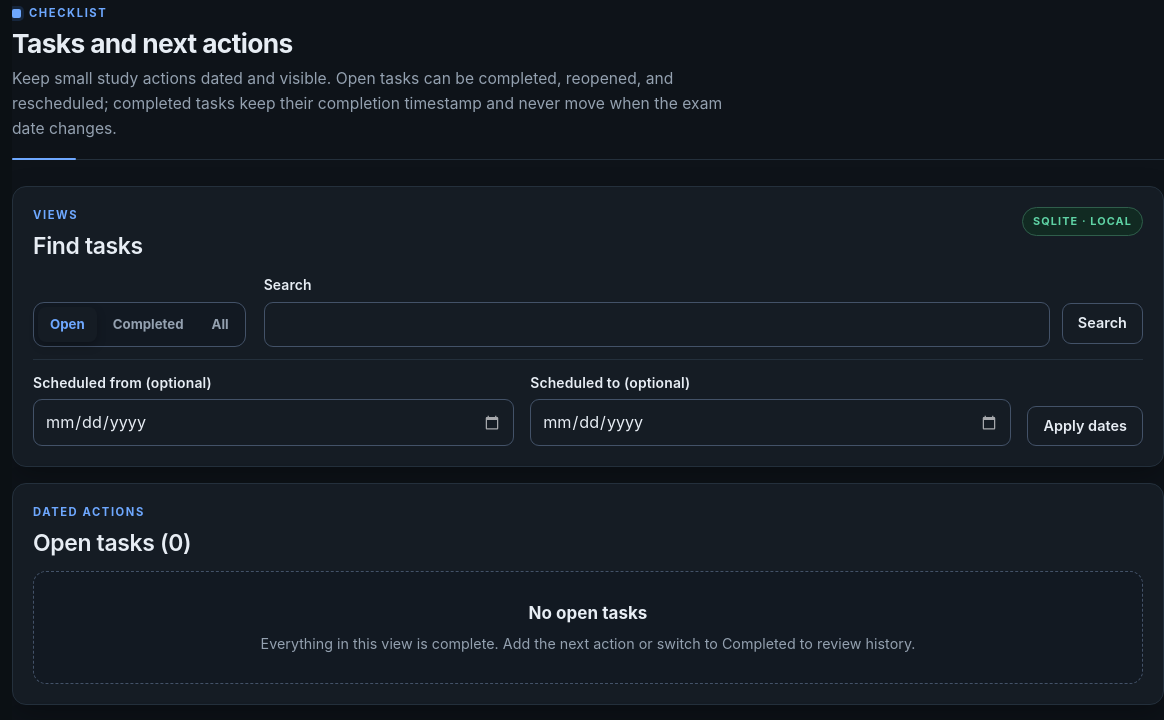
Scenario: checklist screen › shows distinct empty states for open, completed, and all filters
expect the text "No open tasks" is shown: met, box x1=529 y1=603 x2=647 y2=623
Click the button "Completed" at (148, 324), box x1=101 y1=307 x2=196 y2=342
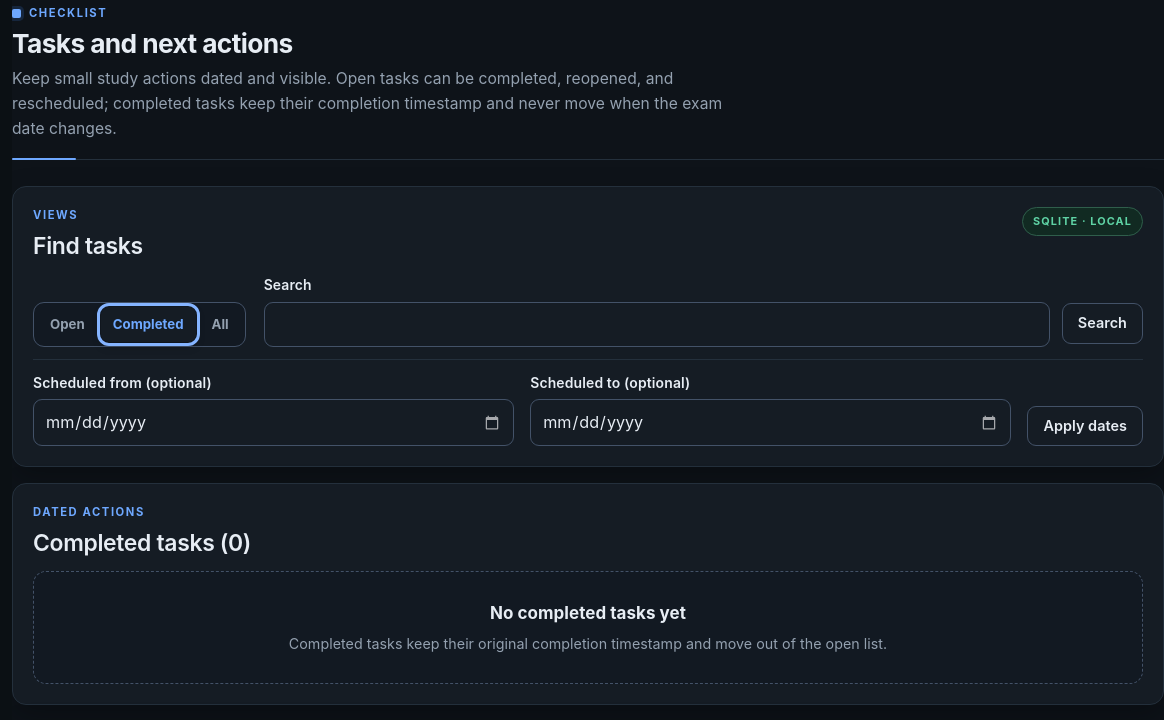
expect the text "No completed tasks yet" is shown: met, box x1=490 y1=603 x2=686 y2=623
Click the button "All" at (220, 324), box x1=200 y1=307 x2=241 y2=342
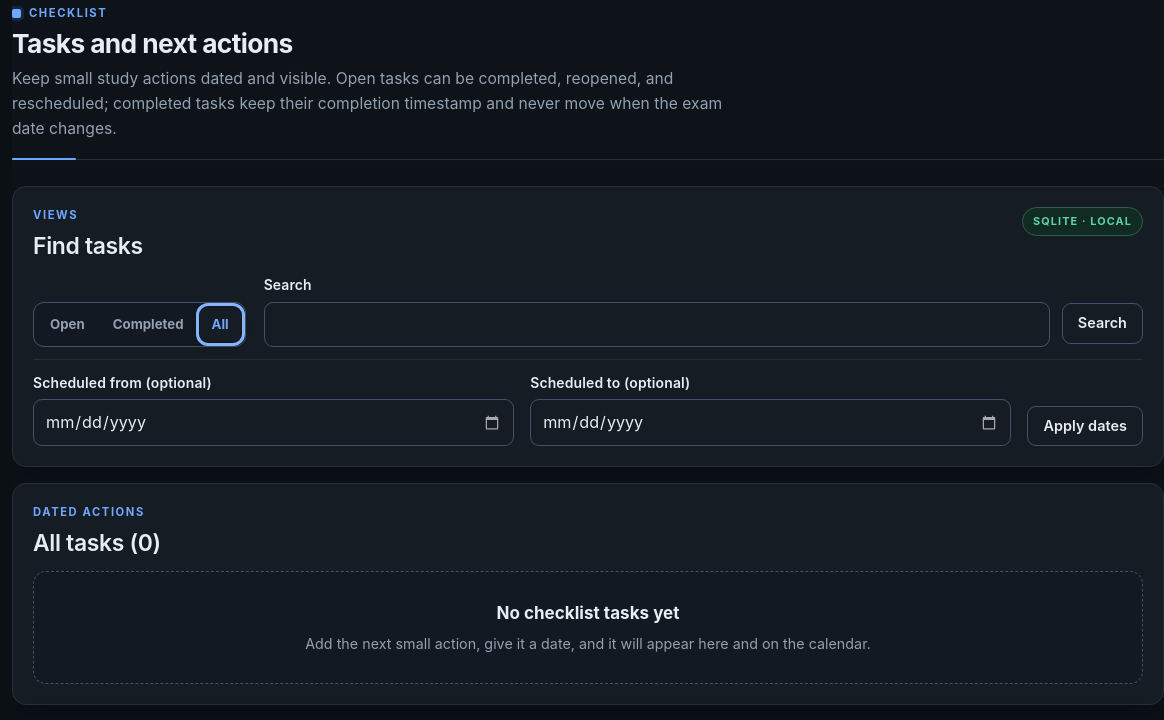
expect the text "No checklist tasks yet" is shown: met, box x1=496 y1=603 x2=680 y2=623
